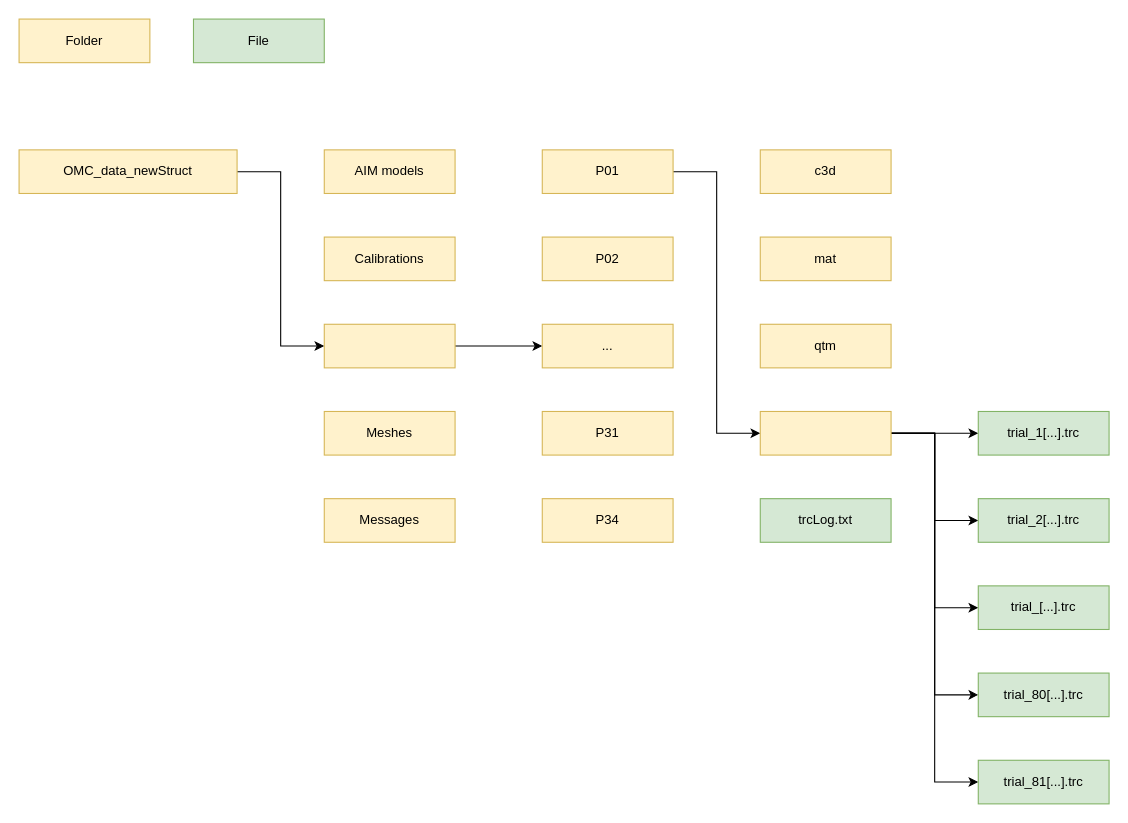
The diagram is 1128 pixels wide and 823 high, and some of its shapes have lost their labels. Here are the shapes that lost their labels. From the top down, the centre of each, then its label:
At point (389, 345): "Data".
At point (825, 432): "trc".
